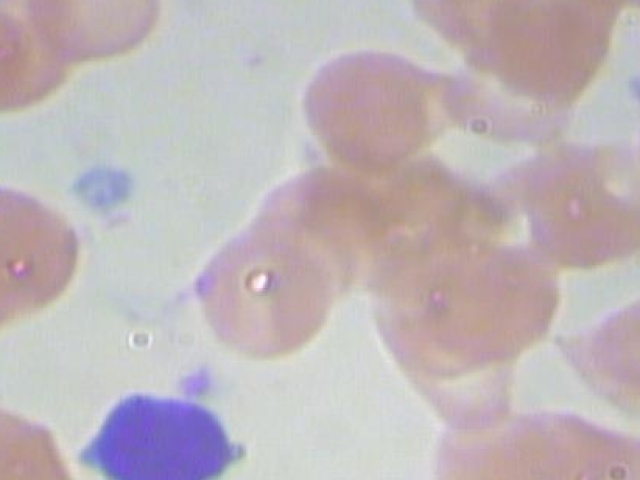Platelets: (58, 151, 152, 217), (170, 360, 225, 403), (623, 69, 640, 115)
RBC: (413, 227, 581, 374), (283, 30, 452, 176), (188, 218, 357, 364), (511, 120, 640, 267), (466, 0, 634, 98), (414, 388, 583, 480), (411, 391, 580, 480), (0, 174, 92, 321), (6, 0, 175, 76), (0, 0, 88, 122), (573, 270, 640, 417), (539, 414, 640, 480), (0, 396, 60, 480), (375, 0, 547, 26), (570, 0, 640, 26), (0, 0, 8, 94), (637, 69, 640, 215)
WBC: (62, 388, 256, 480)
